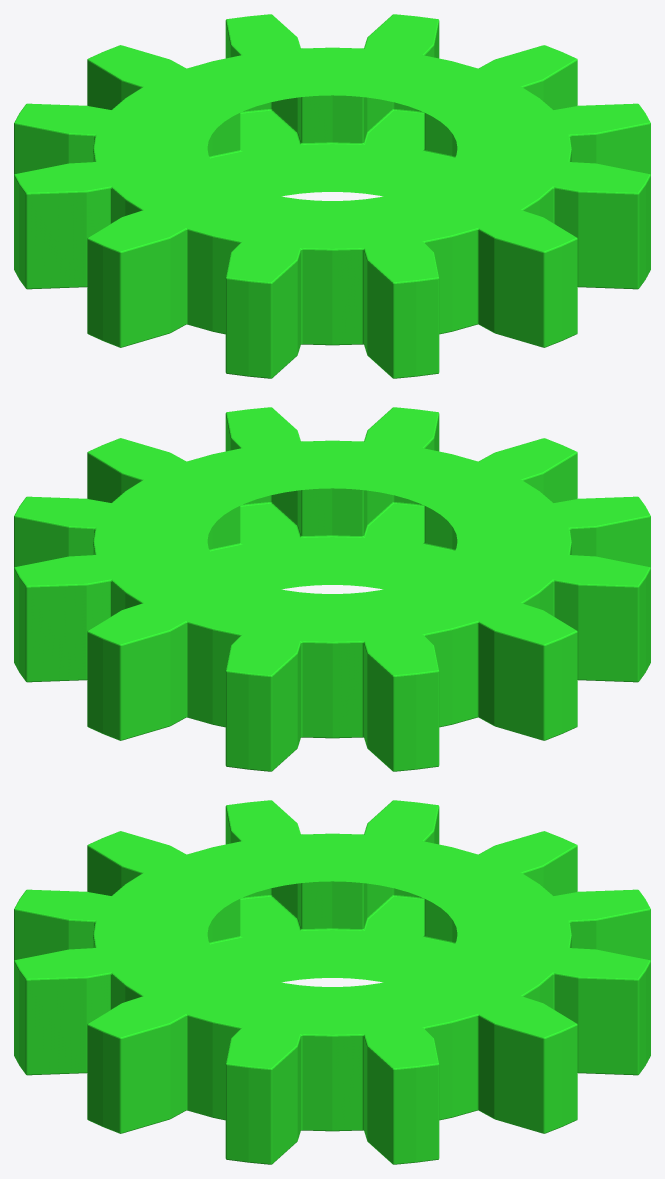
The model's file is Gear.obj.
3 renders of one model, top to bottom at view 1: azimuth 30°, elevation 25°; view 2: azimuth 150°, elevation 25°; view 3: azimuth 270°, elevation 25°, orthographic.
Parts seen in each view (by area): view 1: Gear; view 2: Gear; view 3: Gear.
Boxes of the visible parts, x1=… form: Gear: x1=14, y1=14, x2=650, y2=378; Gear: x1=14, y1=407, x2=650, y2=771; Gear: x1=14, y1=800, x2=650, y2=1164.
Size of the model in its own units: 1 by 0.1674 by 1.
